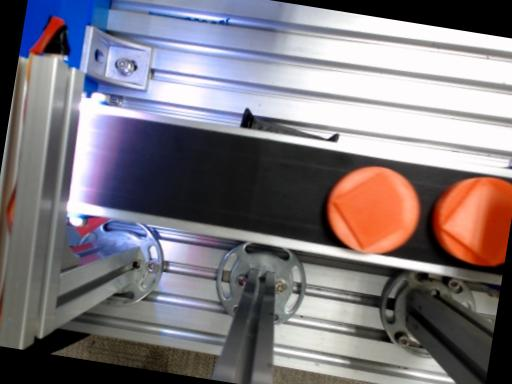Orange_Waper: (326, 167, 420, 253), (432, 177, 512, 266)
